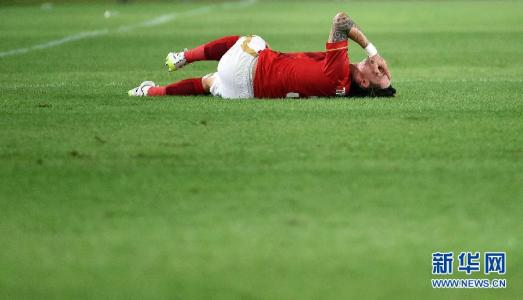fall: (127, 1, 405, 106)
